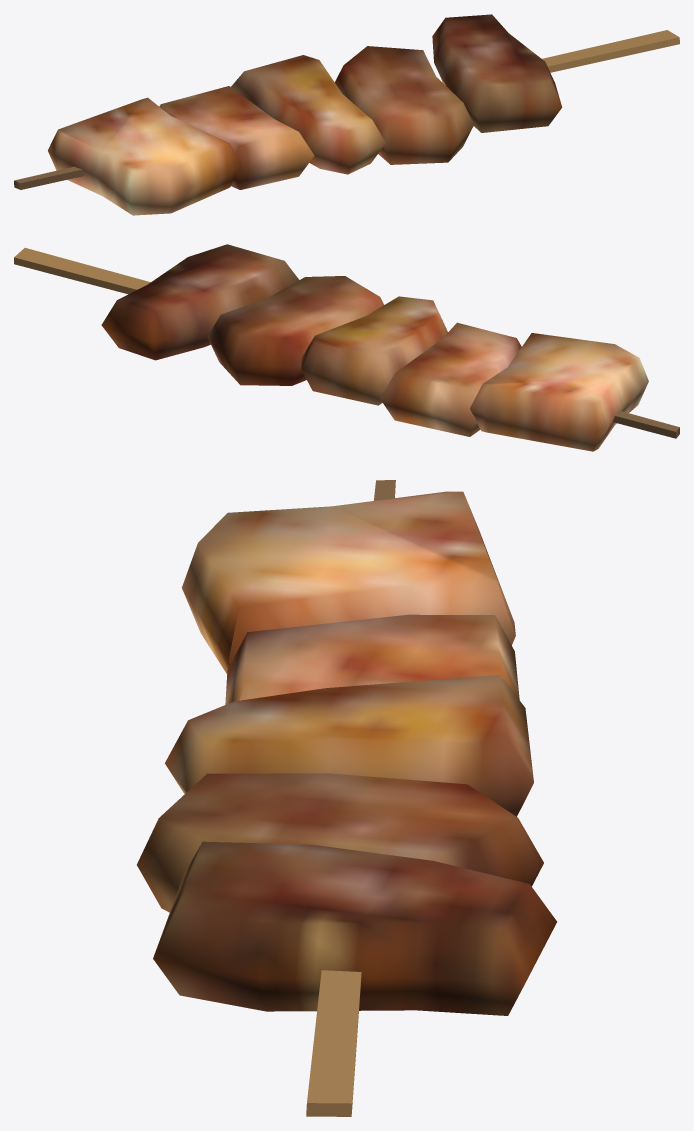
File: dinerfoods13b.fbx
3 renders of one model, top to bottom at view 1: azimuth 30°, elevation 25°; view 2: azimuth 150°, elevation 25°; view 3: azimuth 270°, elevation 25°, orthographic. The views are drawn at different scales.
Visible parts, largest first — view 1: dinerfoods13b; view 2: dinerfoods13b; view 3: dinerfoods13b.
Boxes of the visible parts, <box> form: dinerfoods13b: <box>14,14,679,215</box>; dinerfoods13b: <box>14,244,679,451</box>; dinerfoods13b: <box>137,480,556,1116</box>.
Bounding box in the file's own units: 21.16 × 1.85 × 5.99.
